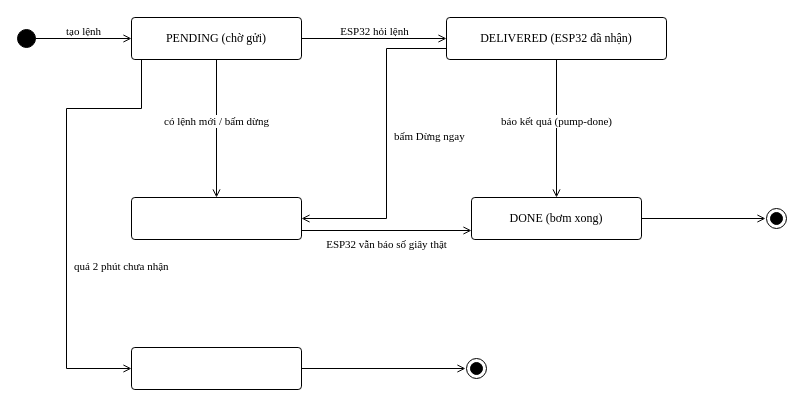
This 804x407 diagram has some shape labels left out. Here are the shapes that lost their labels. From the top down, the box of each, then its label:
(130, 196, 302, 240): CANCELLED (đã hủy)
(130, 346, 302, 390): EXPIRED (hết hạn)
